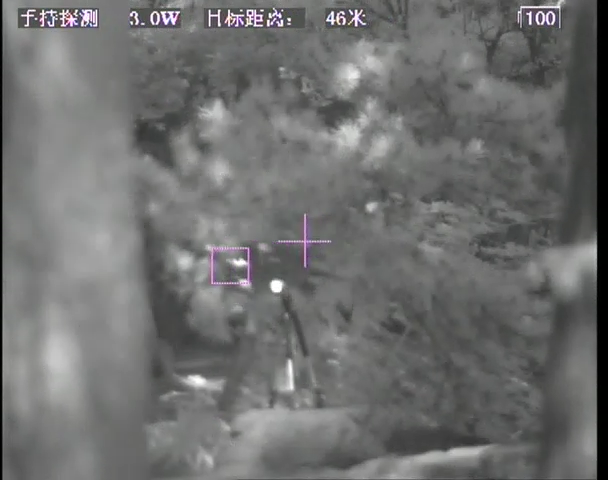my: (268, 277, 286, 293)
